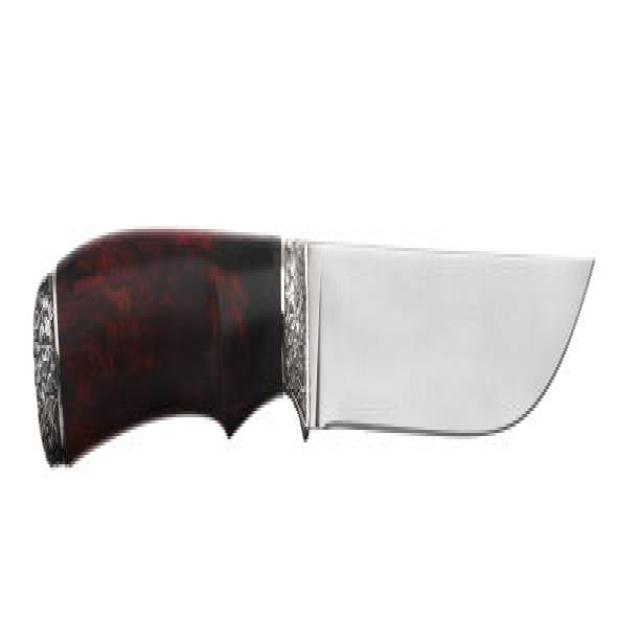knife: (35, 223, 599, 477)
